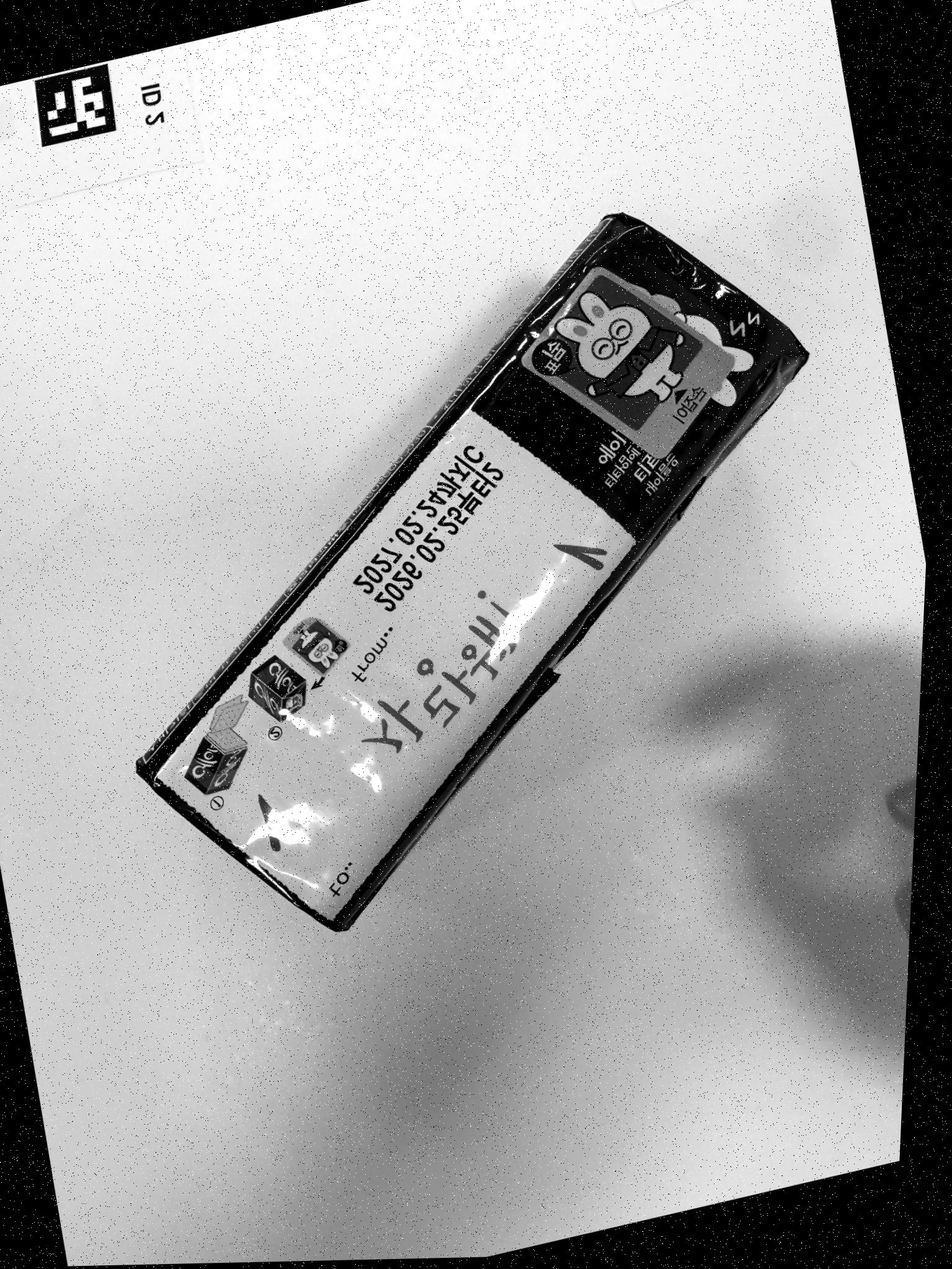cracker_ace: (137, 214, 807, 929)
